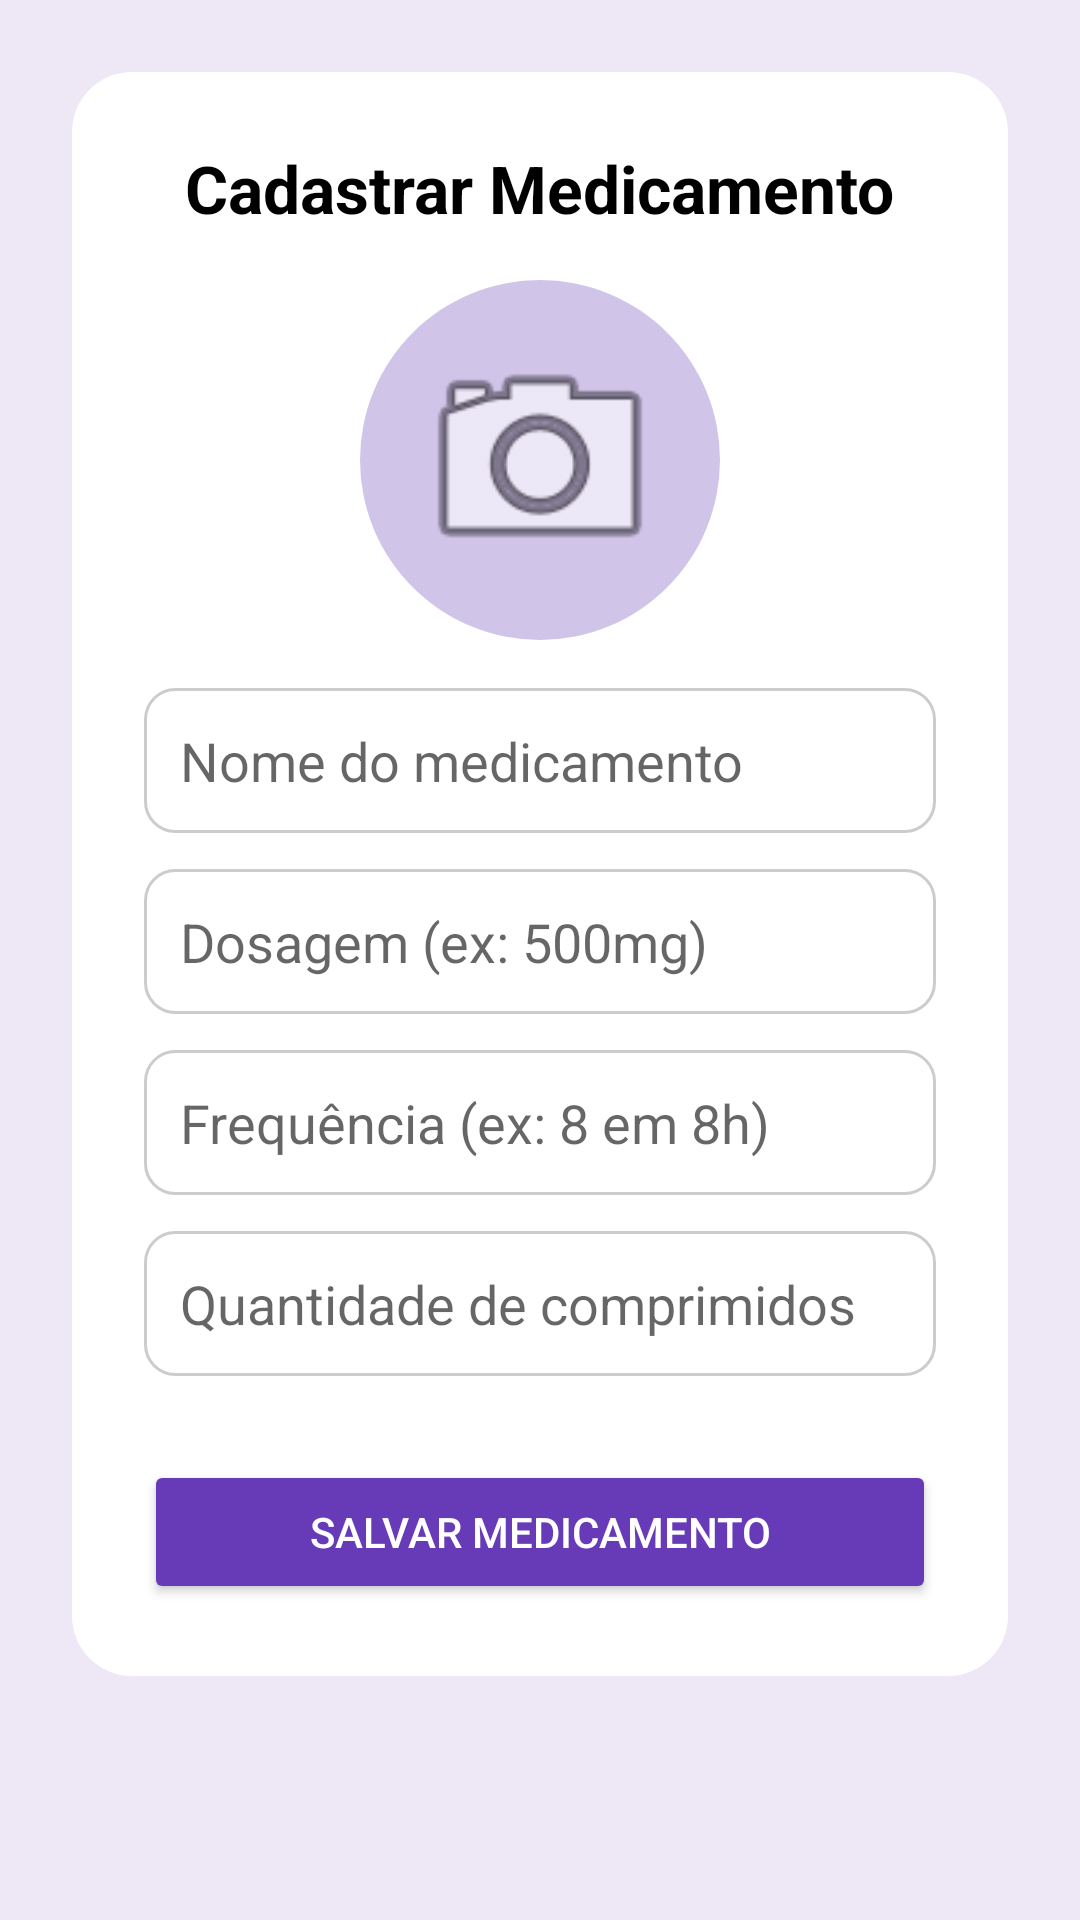

Icon click points for this 1080 x 1920 phone screenshot, format [x,y]:
camera: [540,460]
